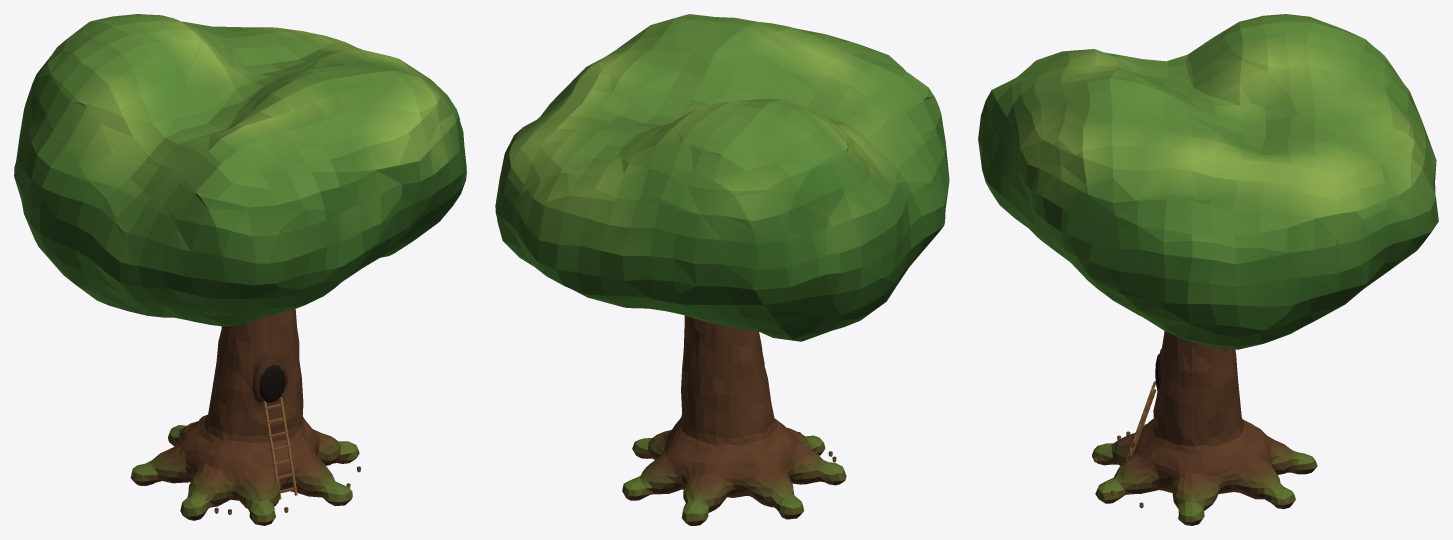
The model's file is oak_hollow.glb.
The picture shows the model from 3 angles, left to right: view 1: azimuth 30°, elevation 25°; view 2: azimuth 150°, elevation 25°; view 3: azimuth 270°, elevation 25°; orthographic projection. The views are drawn at different scales.
Parts seen in each view (by area): view 1: OakHollowCrown, OakHollow-col, OakHollowExtras; view 2: OakHollowCrown, OakHollow-col; view 3: OakHollowCrown, OakHollow-col, OakHollowExtras.
Boxes of the visible parts, left/top/right/bottom form: OakHollowCrown: left=14, top=14, right=466, bottom=326; OakHollow-col: left=130, top=309, right=359, bottom=525; OakHollowExtras: left=214, top=359, right=360, bottom=514; OakHollowCrown: left=495, top=14, right=949, bottom=341; OakHollow-col: left=622, top=315, right=846, bottom=525; OakHollowCrown: left=978, top=14, right=1438, bottom=349; OakHollow-col: left=1092, top=331, right=1317, bottom=525; OakHollowExtras: left=1093, top=349, right=1161, bottom=508.
Size of what is drawn, in the model's own units: 10.74 by 11.6 by 11.14.
